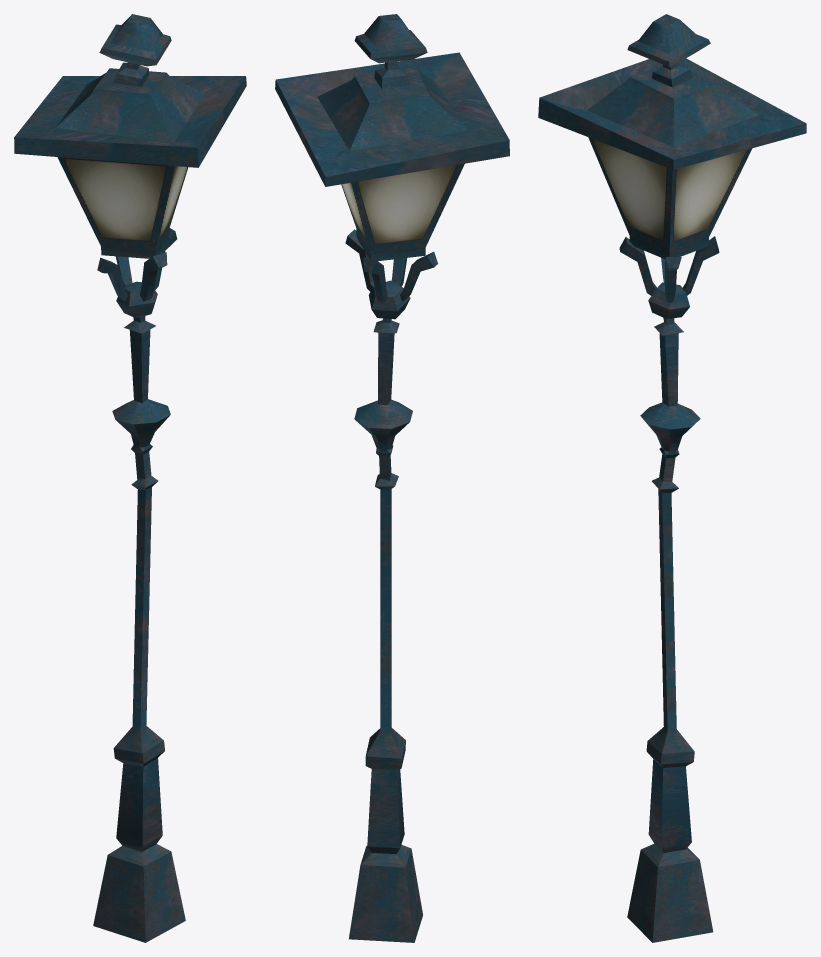
File: StreetLight.glb
3 views of the same model, side by side, from view 1: azimuth 30°, elevation 25°; view 2: azimuth 150°, elevation 25°; view 3: azimuth 270°, elevation 25° (orthographic).
Parts seen in each view (by area): view 1: lantern_d_whole.3; view 2: lantern_d_whole.3; view 3: lantern_d_whole.3.
Boxes of the visible parts, x1,y1,x2,y2 form: lantern_d_whole.3: (14, 14, 246, 942); lantern_d_whole.3: (275, 14, 509, 942); lantern_d_whole.3: (538, 14, 806, 942).
Size of the model in its own units: 0.0124 by 0.0459 by 0.0123.
1 material, 1 textured.
